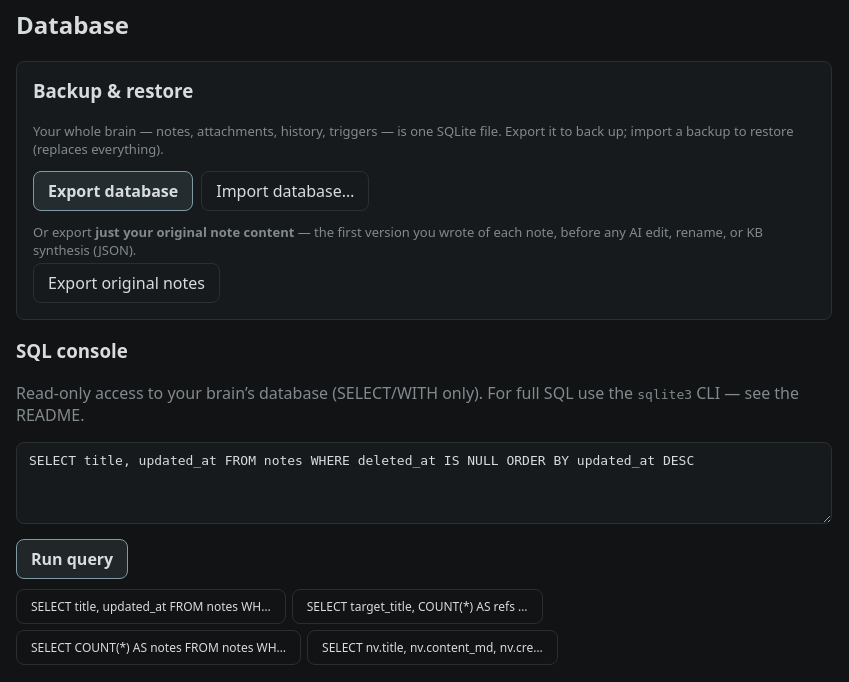
Test: SqlConsole — backup & restore › Export database fetches the backup and reports success
Click the button "Export database": (113, 190) [33,170,193,210]
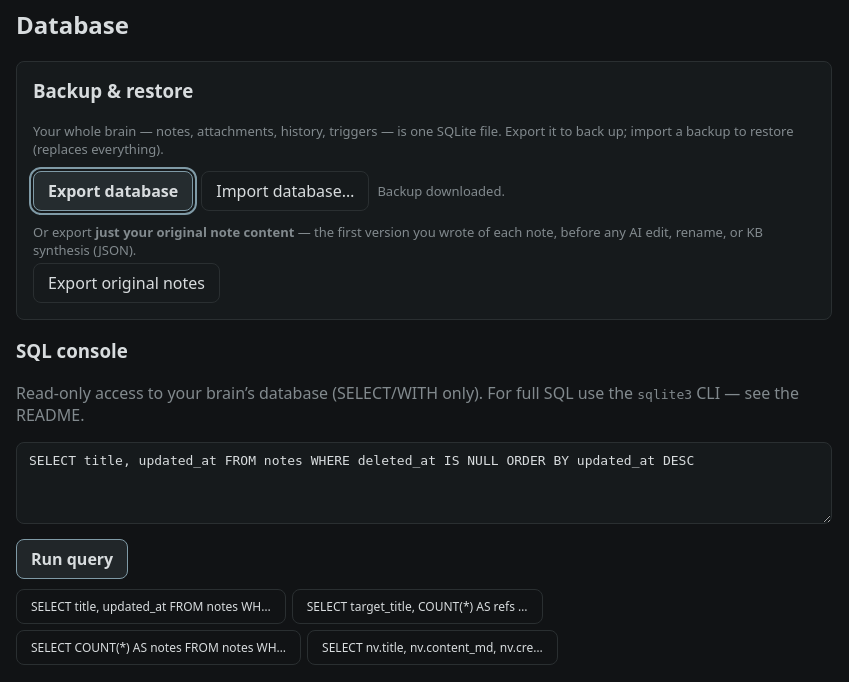
Expected: the text "Backup downloaded." is shown, [377,182,505,200]
